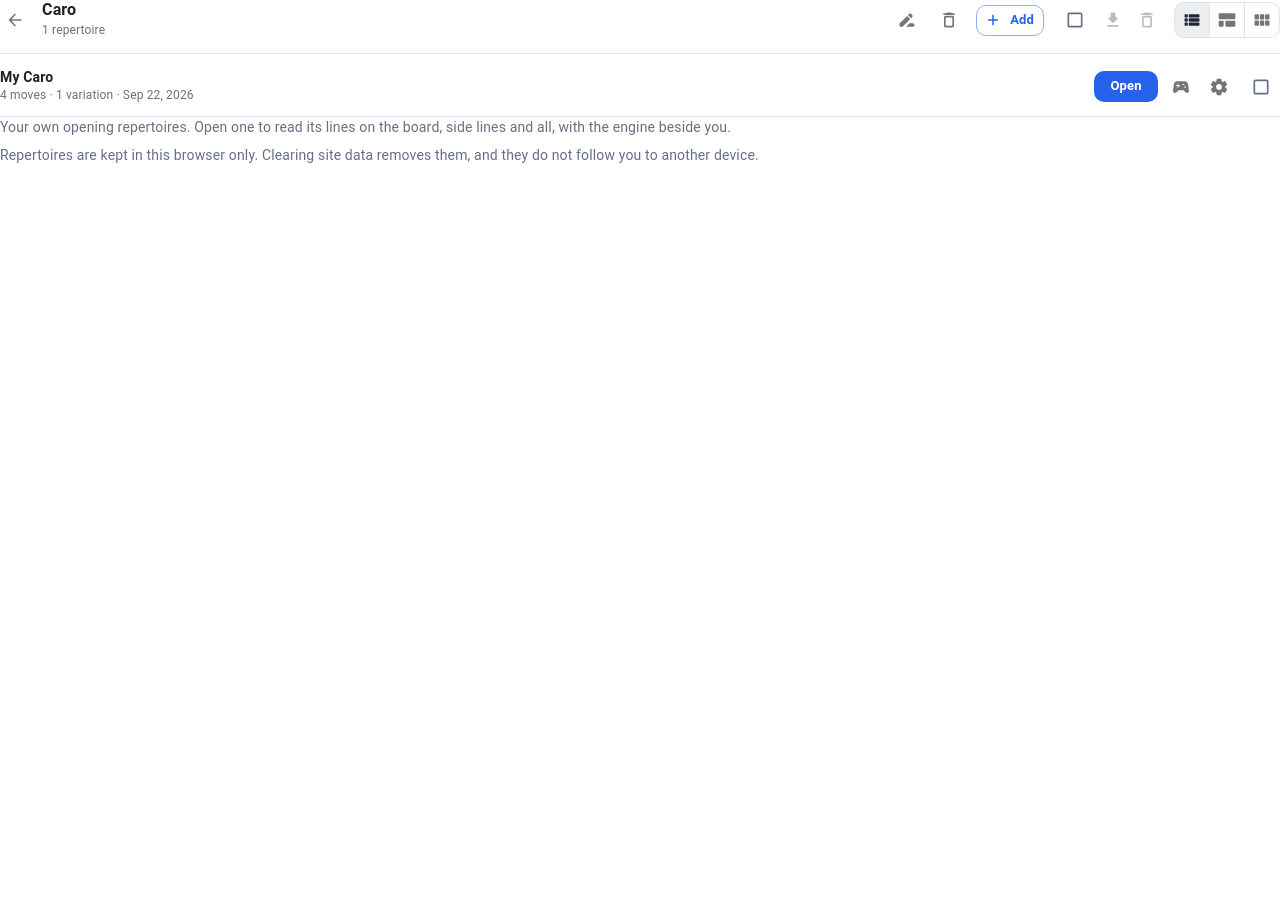
Test: repertoire folders on the list › deletes a folder with repertoires only after asking, and keeps them
Click the button with test id "repertoires-folder-delete".
click(949, 20)  # box [934,5,964,35]
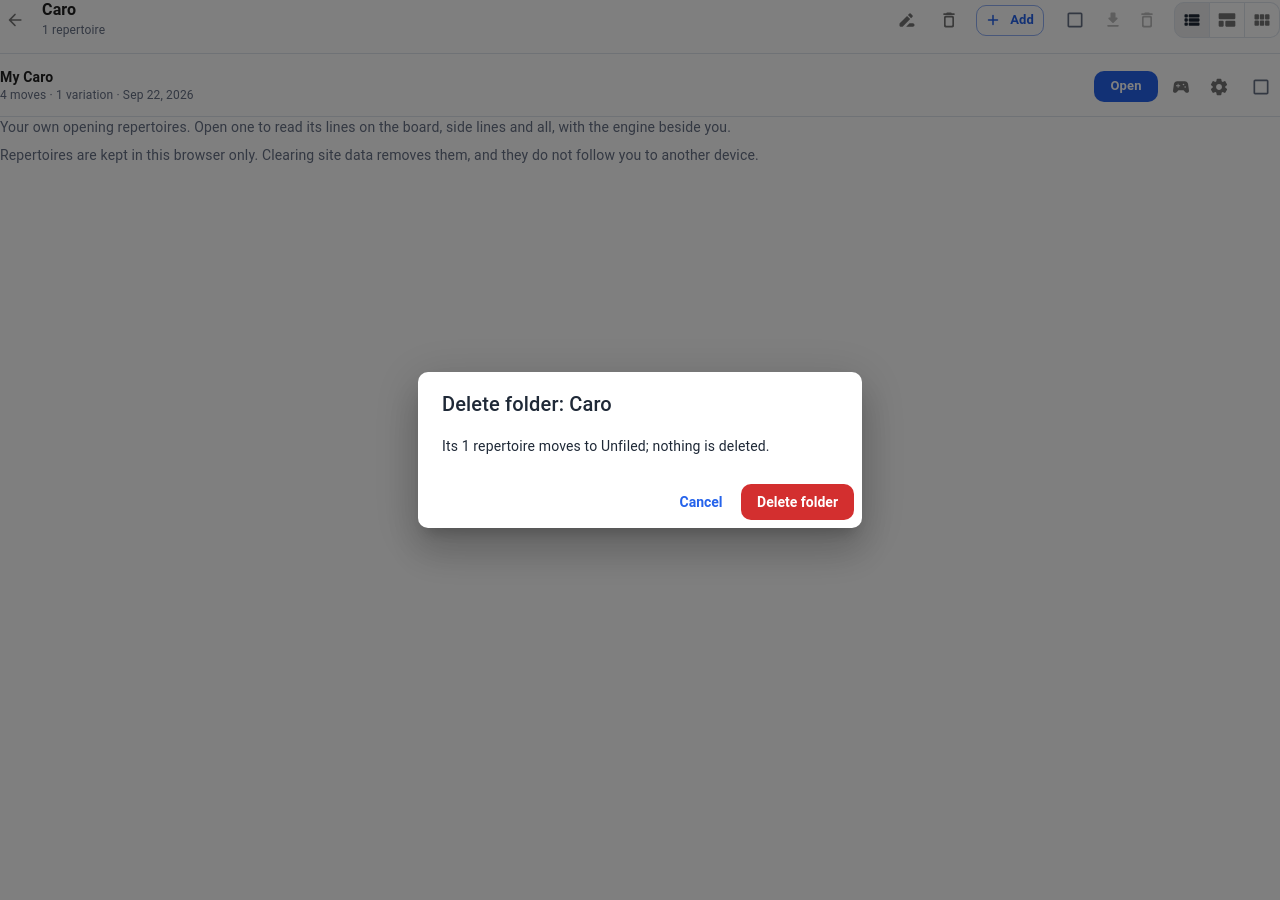
expect the text with test id "repertoire-folder-delete-text" shows "Its 1 repertoire moves to Unfiled": met, box [442,438,770,454]
Click the button with test id "repertoire-folder-delete-confirm".
click(798, 502)  # box [741,484,854,520]
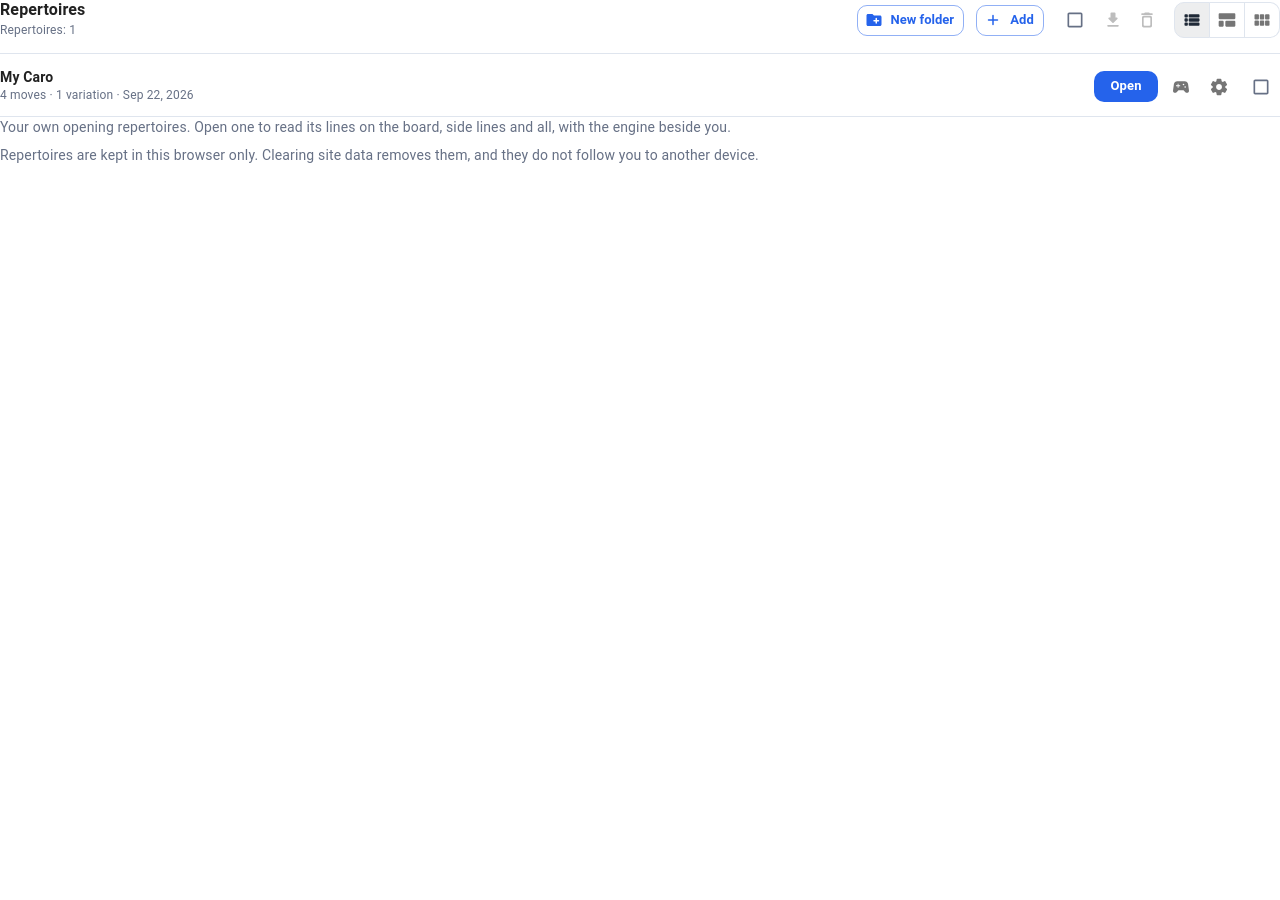
expect the list item with test id "repertoires-item-a" is shown: met, box [0,58,1279,117]
expect the heading with test id "repertoires-title" reads "Repertoires": met, box [0,0,86,19]
